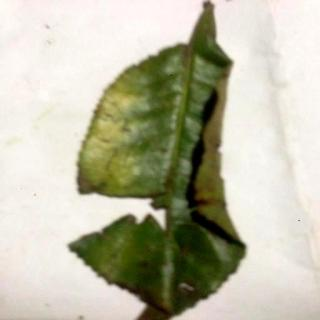Red Leaf Spot: (74, 2, 249, 320)
